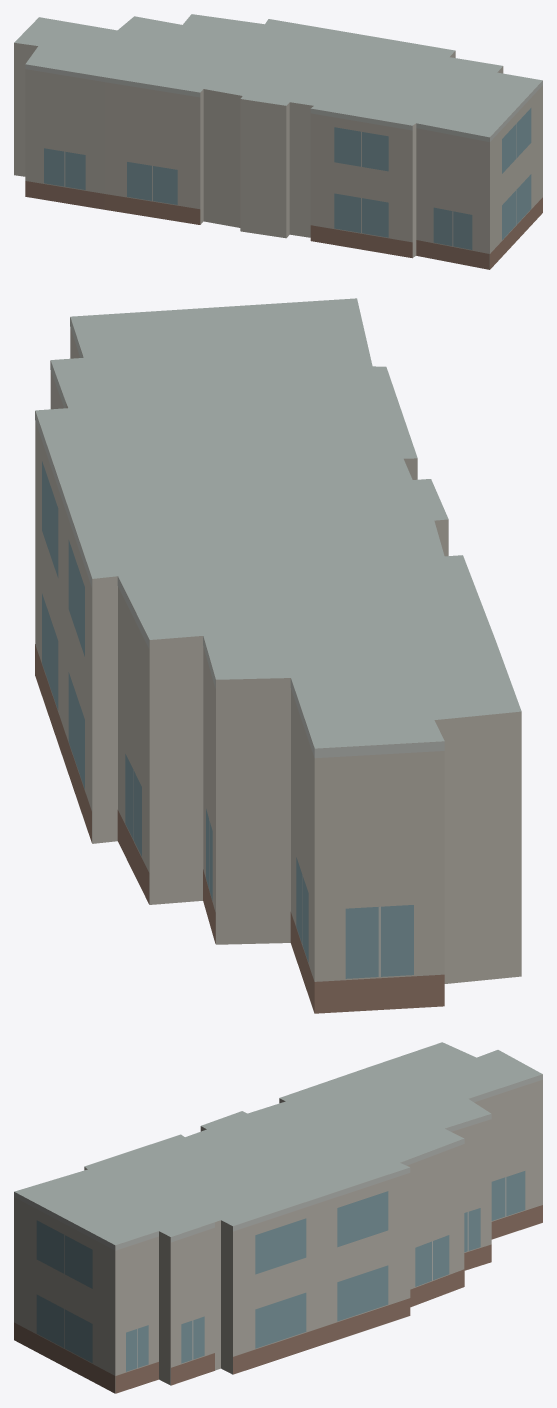
Rendered from survey-upis-32751729.glb.
3 renders of one model, top to bottom at view 1: azimuth 30°, elevation 25°; view 2: azimuth 150°, elevation 25°; view 3: azimuth 270°, elevation 25°, orthographic. The views are drawn at different scales.
Parts seen in each view (by area): view 1: survey-upis-32751729.tmp; view 2: survey-upis-32751729.tmp; view 3: survey-upis-32751729.tmp.
Boxes of the visible parts, <box> form: survey-upis-32751729.tmp: <box>14,14,542,269</box>; survey-upis-32751729.tmp: <box>35,298,521,1013</box>; survey-upis-32751729.tmp: <box>14,1042,542,1393</box>.
Bounding box in the file's own units: 19.68 × 6.7 × 21.64.
